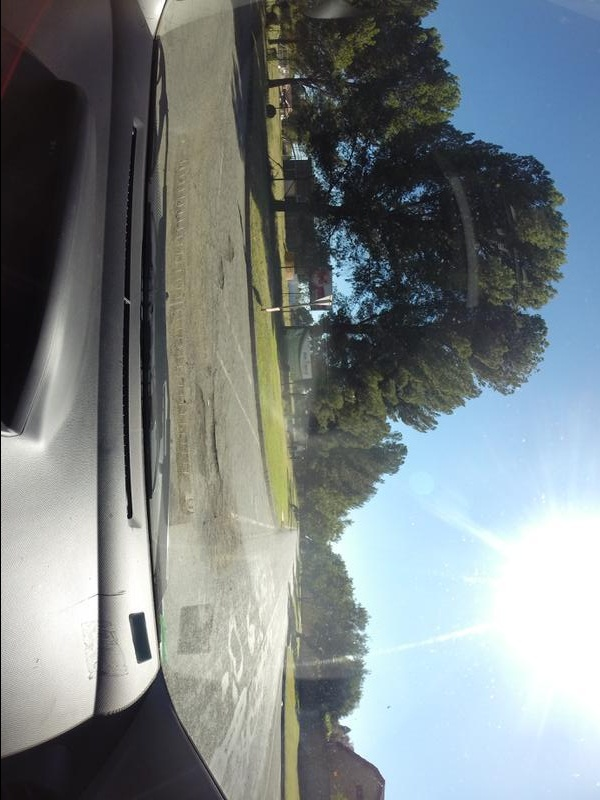pothole: (206, 394, 226, 482), (191, 382, 205, 467), (218, 231, 238, 266), (212, 268, 232, 291), (232, 203, 245, 232)
